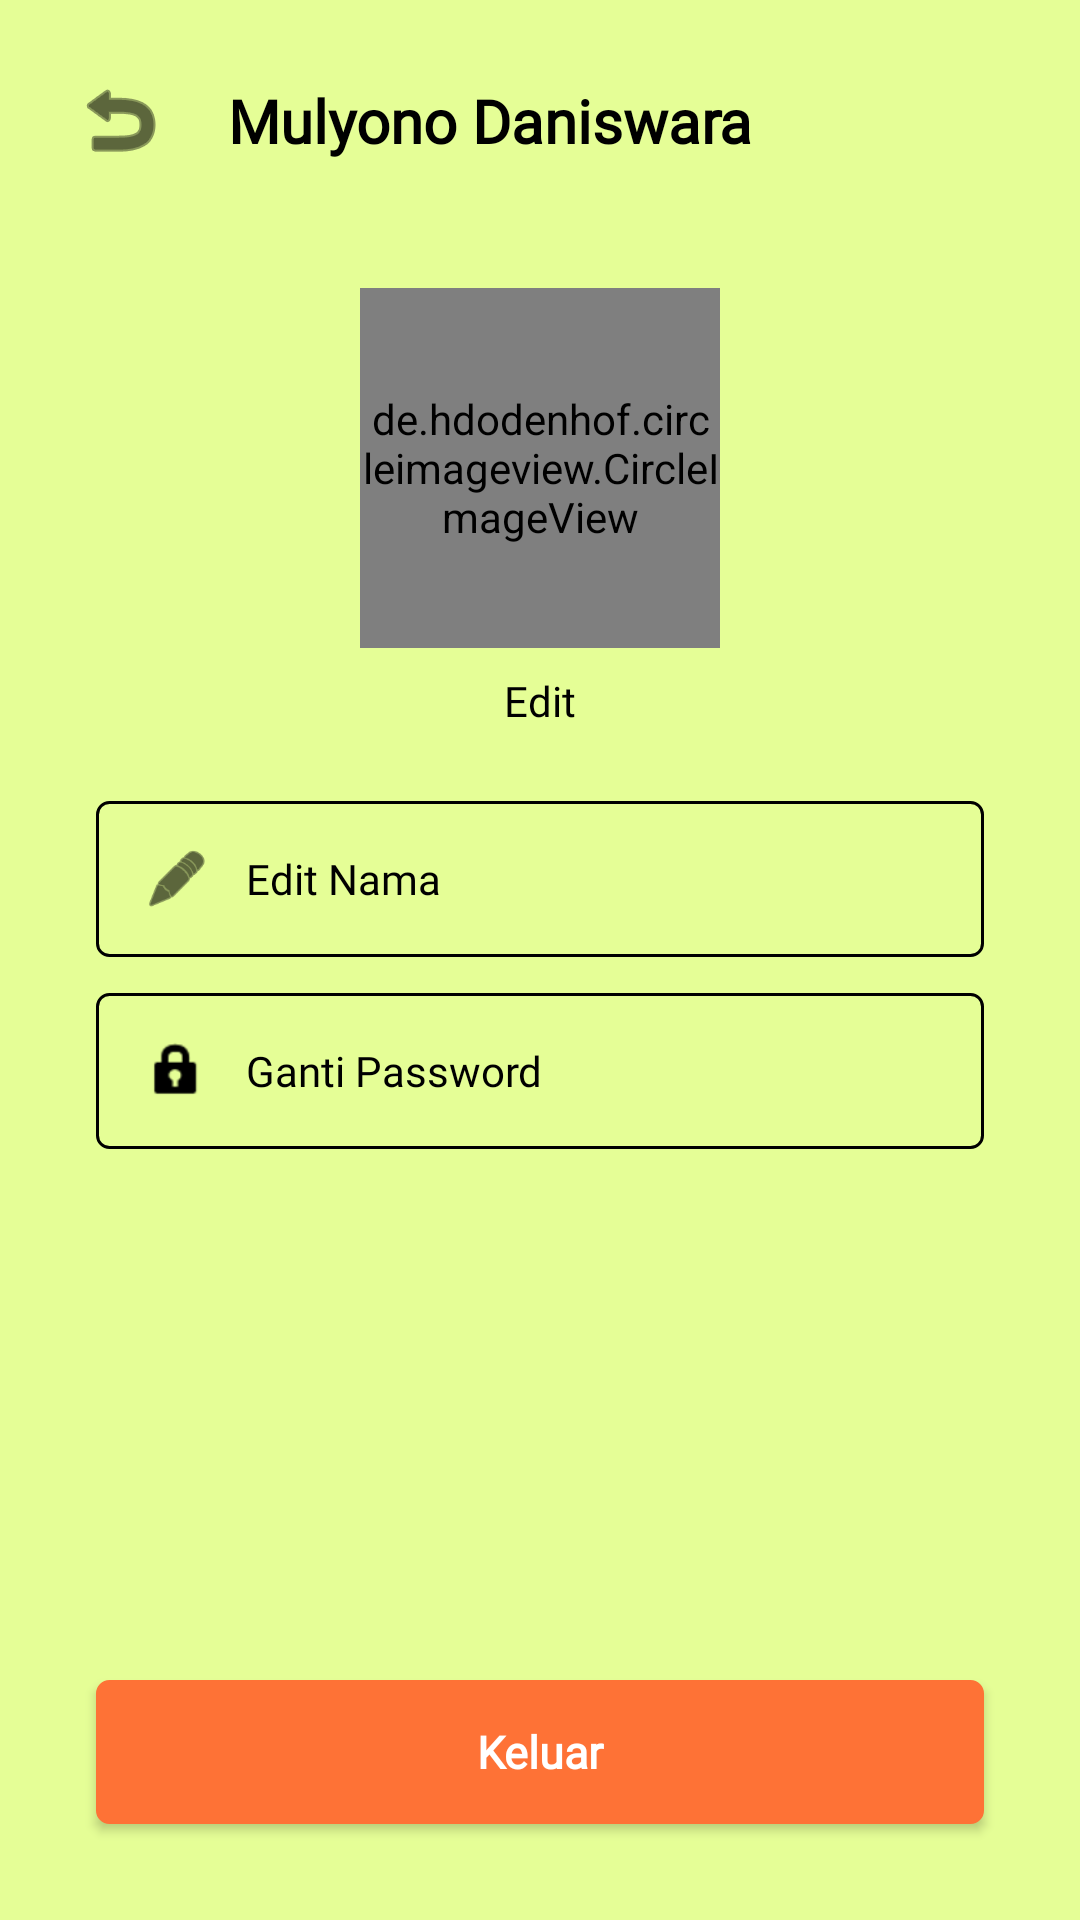

Icons on this 1080×1920 Android screen, each with its box as (x1, y1, x2, y2):
Kembali: (87, 89, 156, 152)
